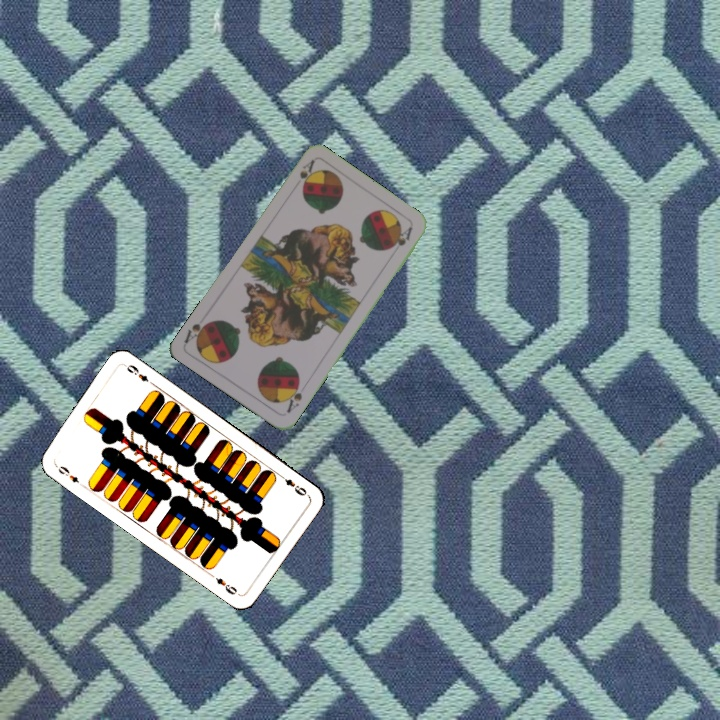E9: (51, 460, 86, 489), (275, 470, 309, 499)
SA: (282, 377, 305, 416), (296, 156, 317, 191)
